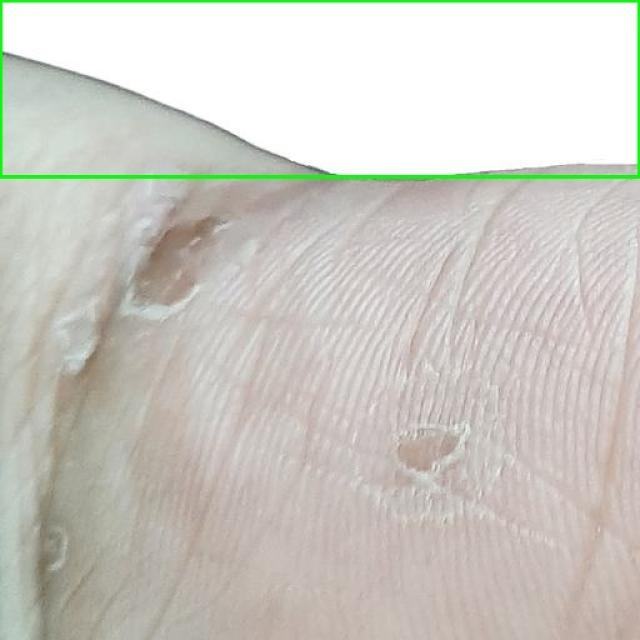Atopic Dermatitis: (0, 0, 639, 176)
